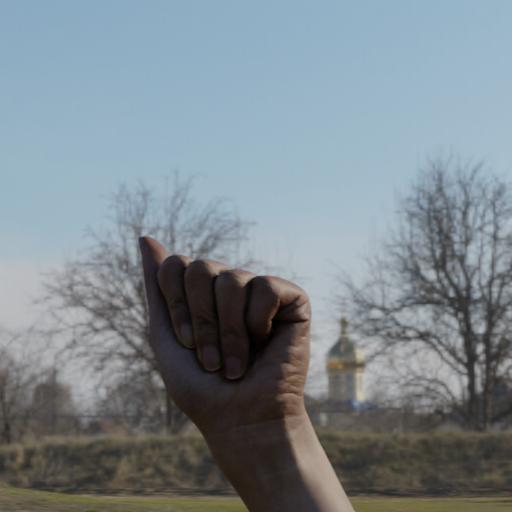A: (116, 212, 333, 463)
